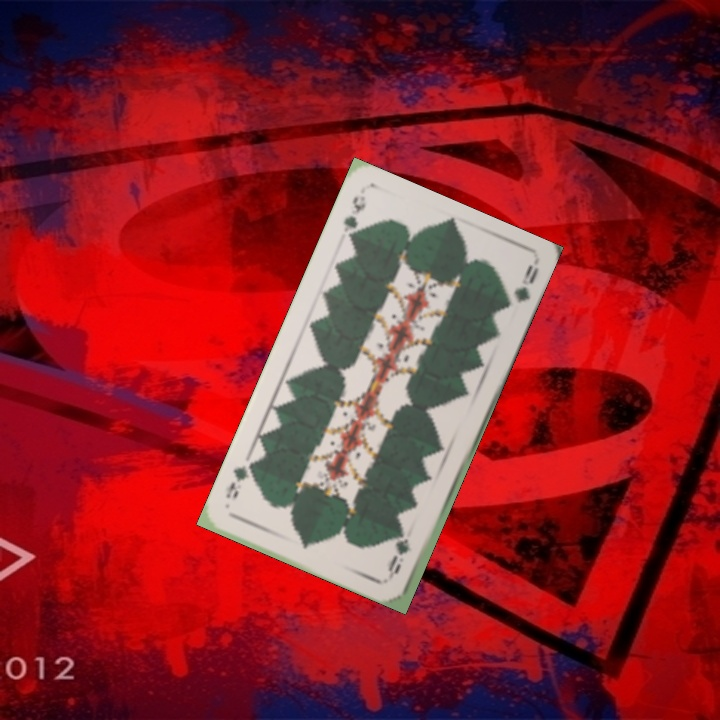G9: (339, 191, 369, 247), (386, 534, 413, 580)
